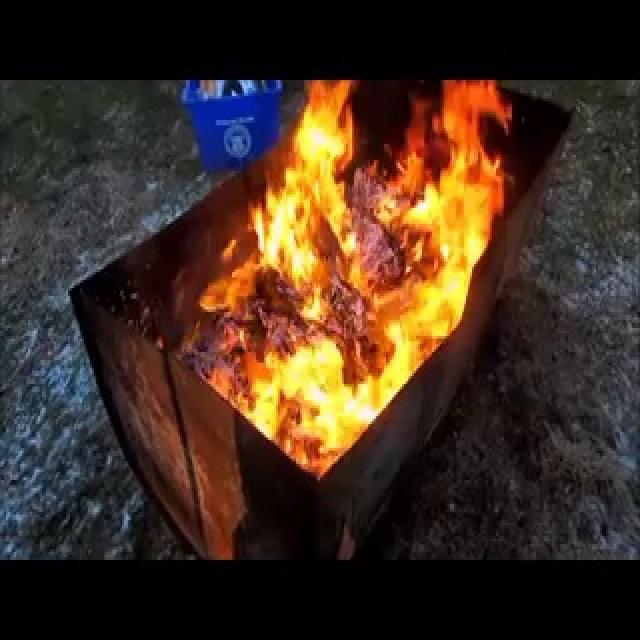Fire: (172, 82, 504, 486)
